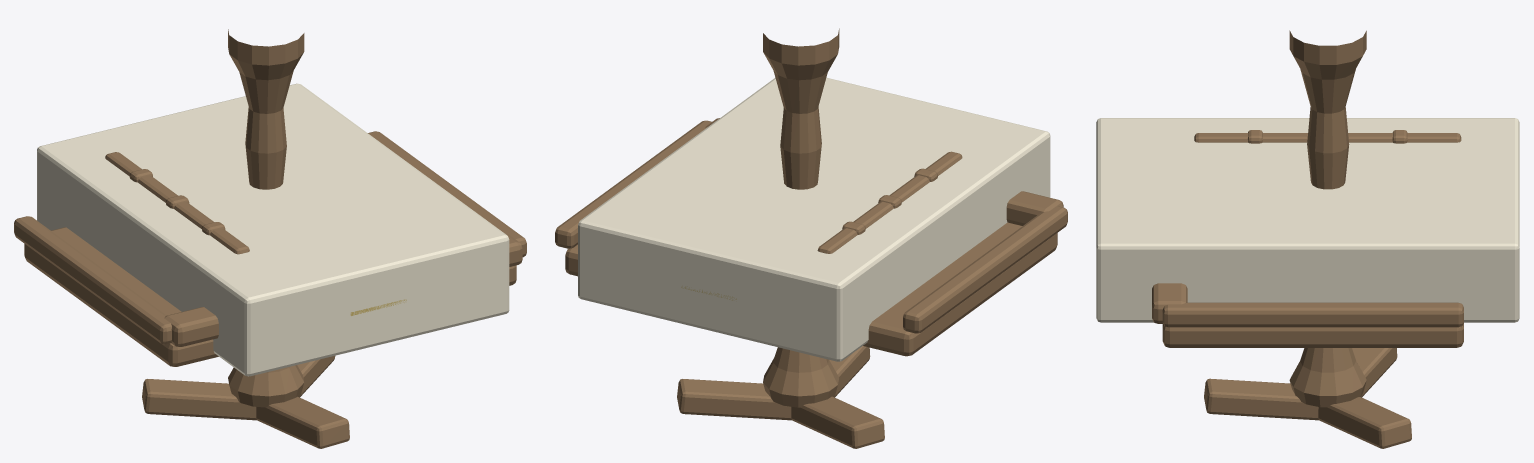
File: reading_lectern.glb
3 renders of one model, left to right at view 1: azimuth 30°, elevation 25°; view 2: azimuth 150°, elevation 25°; view 3: azimuth 270°, elevation 25°, orthographic.
Visible parts, largest first — view 1: 086-reading-lectern/lectern-top/parchment, 086-reading-lectern/0, 086-reading-lectern/lectern-top/oak; view 2: 086-reading-lectern/lectern-top/parchment, 086-reading-lectern/0, 086-reading-lectern/lectern-top/oak; view 3: 086-reading-lectern/lectern-top/parchment, 086-reading-lectern/0, 086-reading-lectern/lectern-top/oak.
Part boxes in pixels (x1=…): 086-reading-lectern/lectern-top/parchment: x1=37, y1=83, x2=509, y2=376; 086-reading-lectern/0: x1=142, y1=29, x2=349, y2=448; 086-reading-lectern/lectern-top/oak: x1=14, y1=131, x2=526, y2=366; 086-reading-lectern/lectern-top/parchment: x1=578, y1=77, x2=1050, y2=361; 086-reading-lectern/0: x1=677, y1=28, x2=884, y2=448; 086-reading-lectern/lectern-top/oak: x1=555, y1=118, x2=1067, y2=356; 086-reading-lectern/lectern-top/parchment: x1=1096, y1=118, x2=1519, y2=322; 086-reading-lectern/0: x1=1204, y1=30, x2=1411, y2=448; 086-reading-lectern/lectern-top/oak: x1=1152, y1=130, x2=1463, y2=347.
Bounding box in the file's own units: 1 × 1 × 1.
